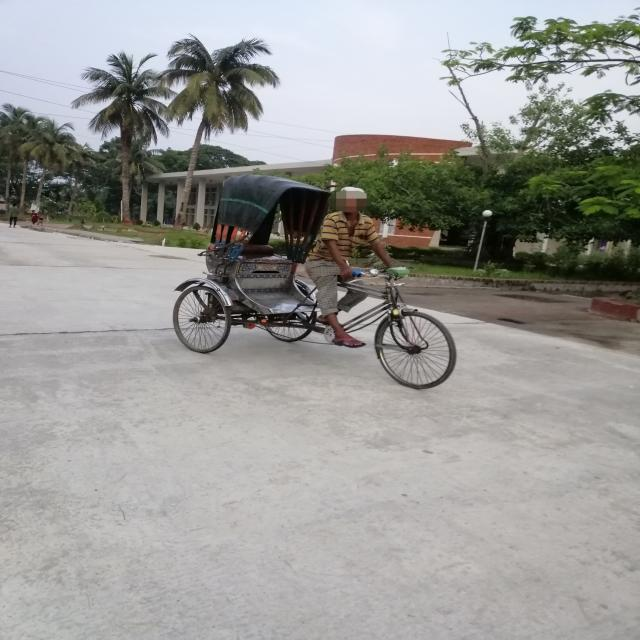Rickshaw: (170, 174, 460, 396)
